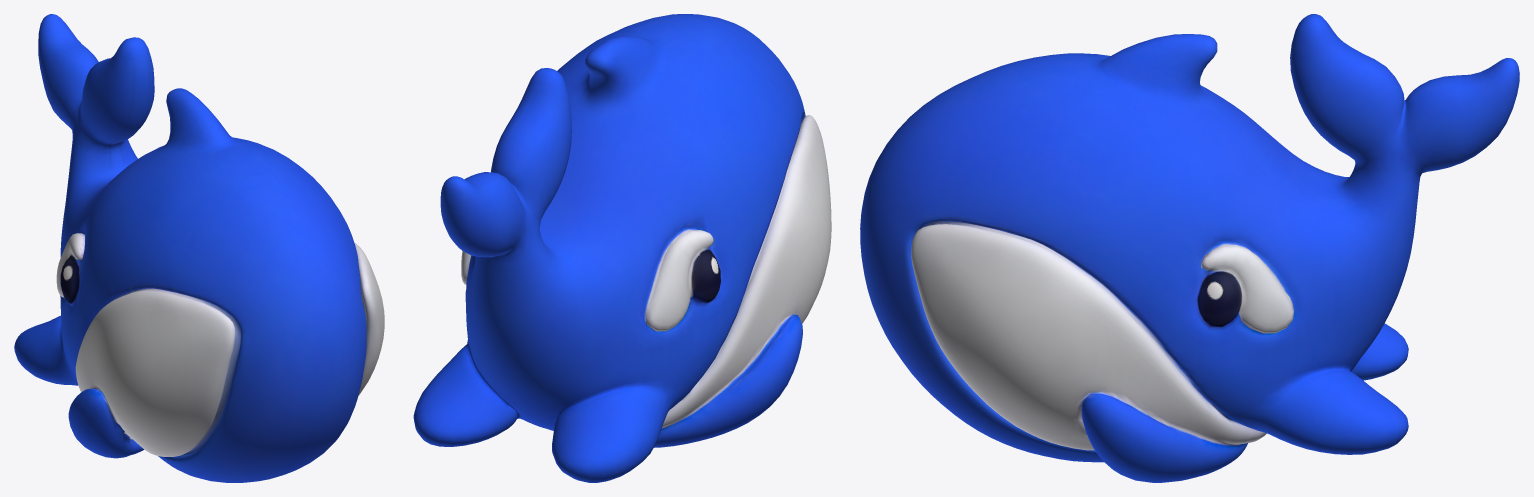
File: deepseek_whale_pbr.glb
3 views of the same model, side by side, from view 1: azimuth 30°, elevation 25°; view 2: azimuth 150°, elevation 25°; view 3: azimuth 270°, elevation 25° (orthographic). The views are drawn at different scales.
Visible parts, largest first — view 1: model; view 2: model; view 3: model.
Boxes of the visible parts, left/top/right/bottom form: model: left=14, top=14, right=384, bottom=482; model: left=413, top=14, right=831, bottom=482; model: left=860, top=14, right=1519, bottom=482.
Bounding box in the file's own units: 1.09 × 1.37 × 1.9.
Materials: 1 (1 with a texture image).
